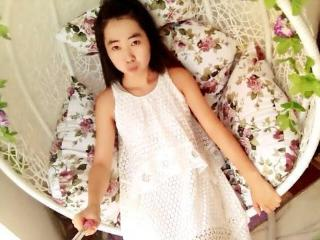skirt: (119, 153, 251, 239)
vest dress: (110, 67, 225, 191)
